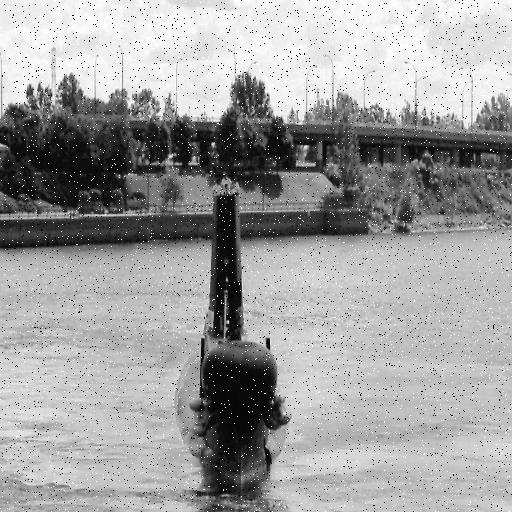submarine: (164, 184, 296, 507)
